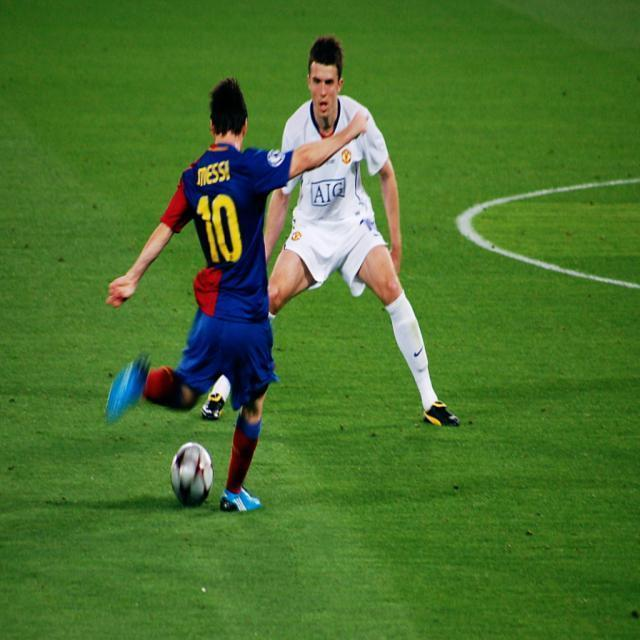ball: (170, 444, 213, 508)
